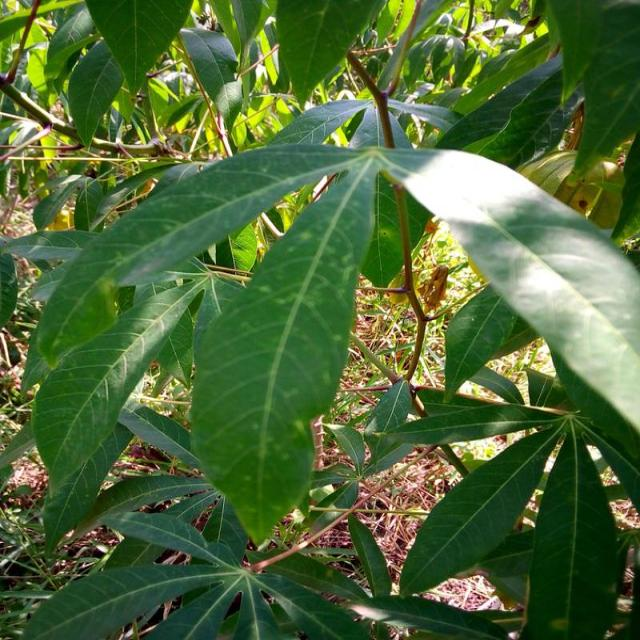cassava leaf: (188, 145, 381, 547)
